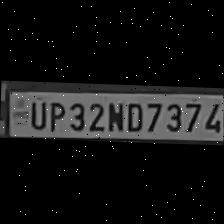2: (86, 97, 104, 130)
3: (162, 98, 182, 132), (65, 96, 84, 129)
4: (200, 98, 222, 132)
7: (142, 97, 162, 132), (181, 98, 199, 132)
D: (123, 97, 143, 130)
N: (104, 97, 124, 131)
P: (45, 96, 65, 130)
U: (26, 97, 46, 130)
